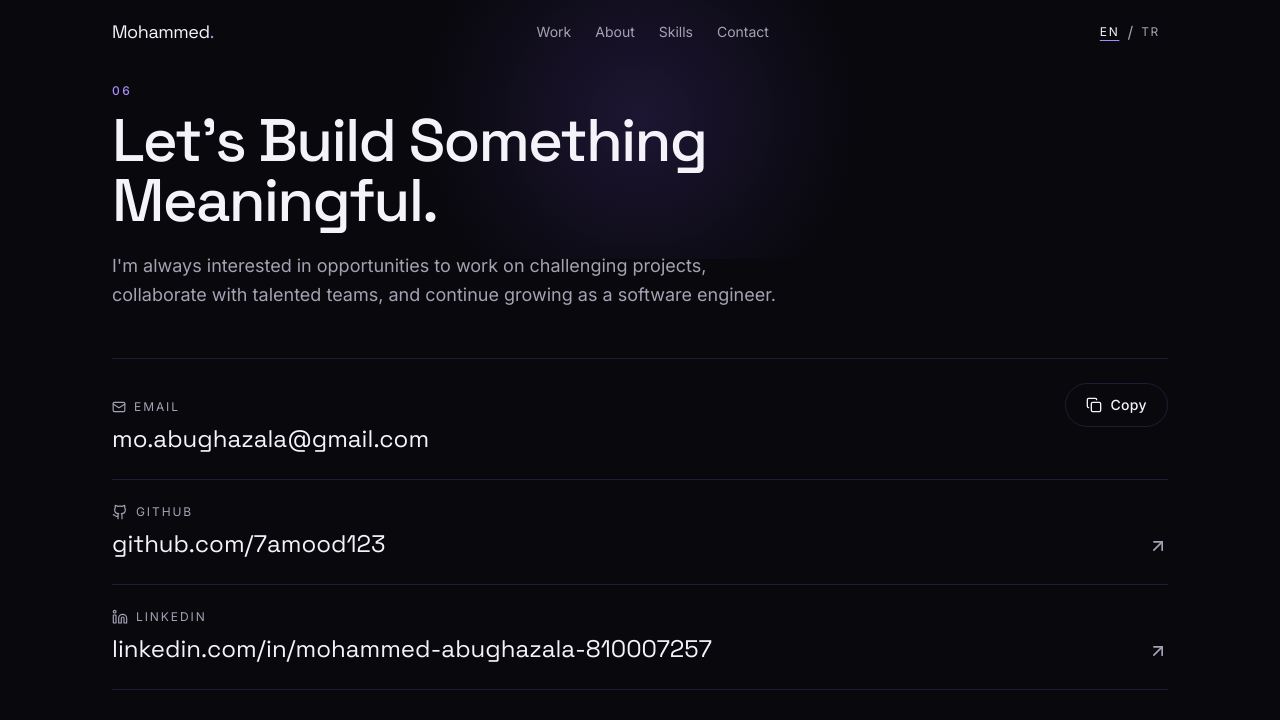
portfolio page › copies the email address and announces the result
The width and height of the screenshot is (1280, 720).
(page scrolled)
Click the button with aria-label "Copy email address". click: point(1117, 405)
box: [1065,383,1168,427]
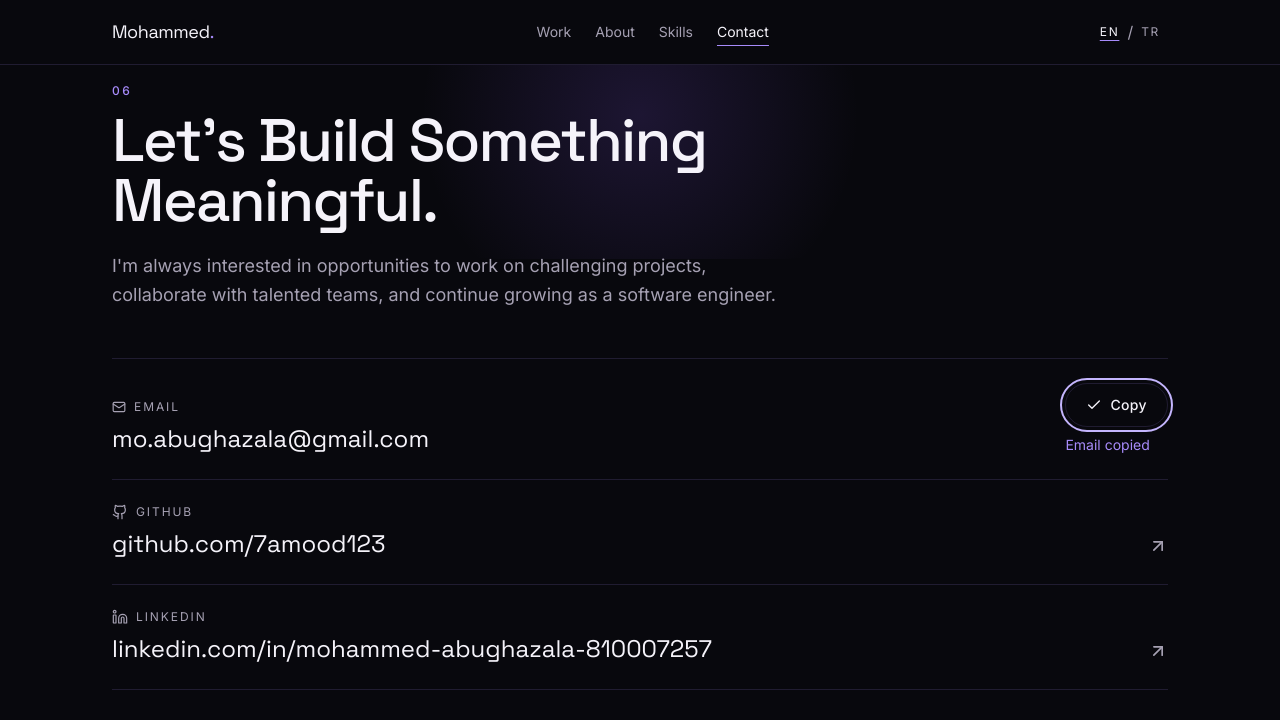
Result: the message reads "Email copied" at [1065,436,1150,453]
